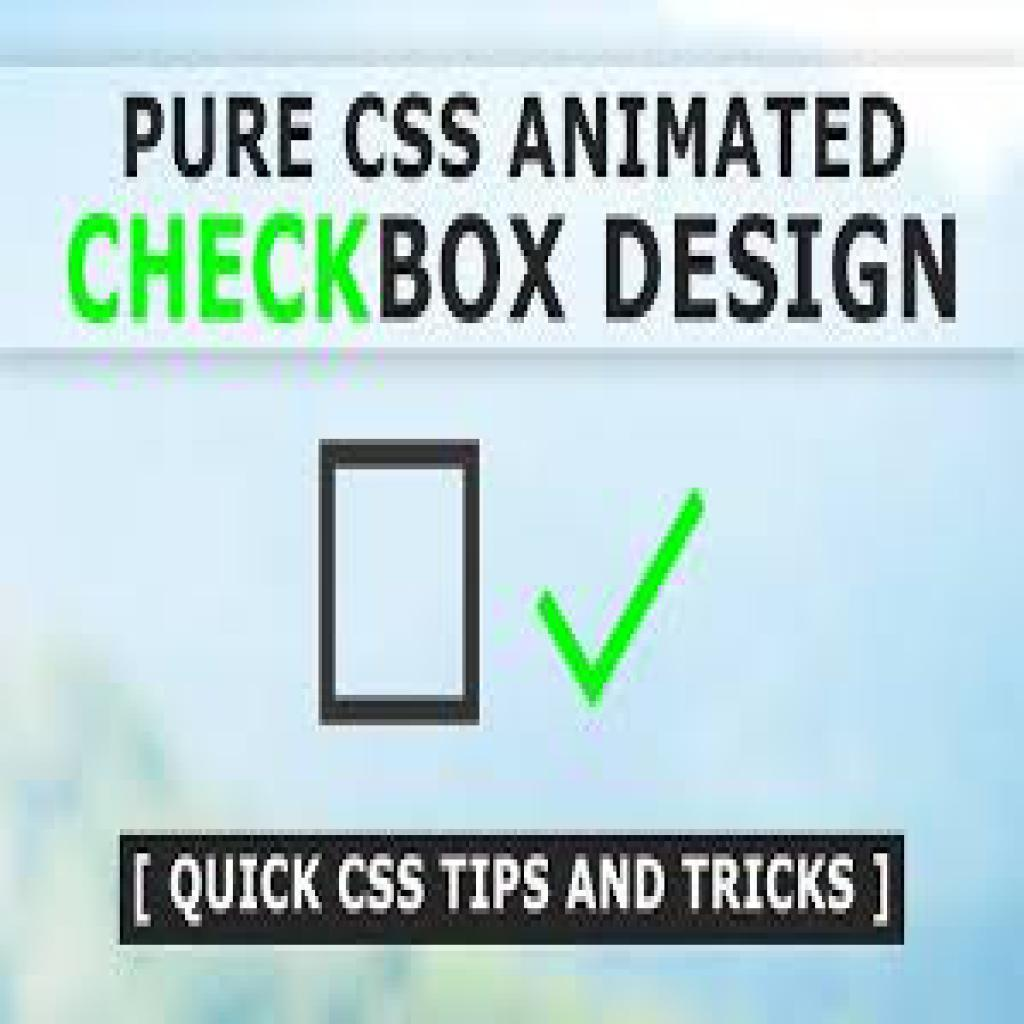checkbox: (320, 441, 482, 726)
